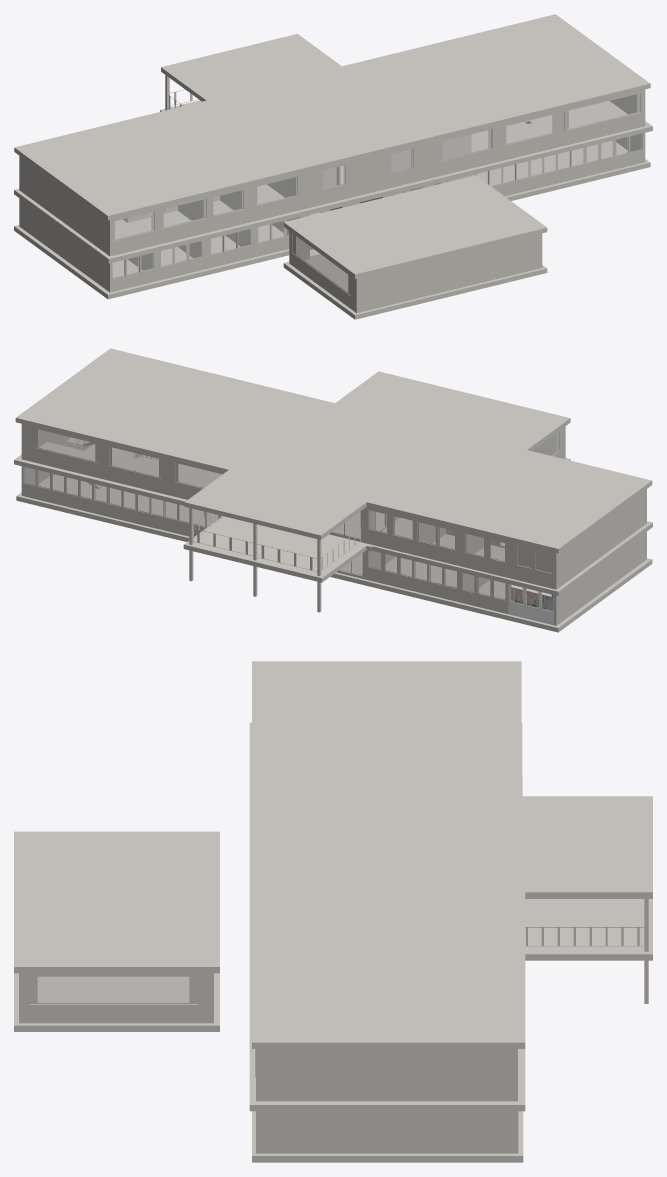
Rendered from visual_space_walk.glb.
The picture shows the model from 3 angles, top to bottom: view 1: azimuth 30°, elevation 25°; view 2: azimuth 150°, elevation 25°; view 3: azimuth 270°, elevation 25°; orthographic projection. The views are drawn at different scales.
Parts seen in each view (by area): view 1: BEYOND_L2_SLAB, BEYOND_L1_WALL, BEYOND_L0_WALL, BEYOND_L0_SLAB, BEYOND_L1_SLAB, BEYOND_L1_GLASS, BEYOND_L0_GLASS, BEYOND_L1_FRAME, UPPER_in_zone, BEYOND_L0_FRAME, BEYOND_L1_OTHER, BEYOND_L0_OTHER; view 2: BEYOND_L2_SLAB, BEYOND_L1_SLAB, BEYOND_L1_WALL, BEYOND_L0_WALL, BEYOND_L0_SLAB, BEYOND_L1_GLASS, BEYOND_L0_GLASS, UPPER_in_zone, BEYOND_L1_FRAME, BEYOND_L0_FRAME, BEYOND_L1_OTHER, BAKE_wall_north (+6 smaller); view 3: BEYOND_L2_SLAB, BEYOND_L0_WALL, BEYOND_L1_WALL, BEYOND_L1_SLAB, BEYOND_L0_SLAB, BEYOND_L0_GLASS, UPPER_in_zone, BEYOND_L0_FRAME.
Boxes of the visible parts, x1=… form: BEYOND_L2_SLAB: x1=14, y1=14, x2=650, y2=278; BEYOND_L1_WALL: x1=19, y1=89, x2=645, y2=256; BEYOND_L0_WALL: x1=19, y1=133, x2=645, y2=313; BEYOND_L0_SLAB: x1=14, y1=122, x2=650, y2=319; BEYOND_L1_SLAB: x1=14, y1=100, x2=652, y2=263; BEYOND_L1_GLASS: x1=115, y1=94, x2=636, y2=238; BEYOND_L0_GLASS: x1=113, y1=134, x2=641, y2=291; BEYOND_L1_FRAME: x1=113, y1=93, x2=640, y2=240; UPPER_in_zone: x1=22, y1=135, x2=103, y2=173; BEYOND_L0_FRAME: x1=112, y1=134, x2=642, y2=295; BEYOND_L1_OTHER: x1=112, y1=89, x2=641, y2=240; BEYOND_L0_OTHER: x1=124, y1=133, x2=642, y2=295; BEYOND_L2_SLAB: x1=15, y1=348, x2=652, y2=553; BEYOND_L1_SLAB: x1=14, y1=442, x2=652, y2=596; BEYOND_L1_WALL: x1=21, y1=424, x2=646, y2=589; BEYOND_L0_WALL: x1=21, y1=426, x2=646, y2=625; BEYOND_L0_SLAB: x1=16, y1=444, x2=652, y2=632; BEYOND_L1_GLASS: x1=38, y1=429, x2=504, y2=560; BEYOND_L0_GLASS: x1=24, y1=434, x2=555, y2=598; UPPER_in_zone: x1=508, y1=509, x2=589, y2=588; BEYOND_L1_FRAME: x1=34, y1=428, x2=505, y2=561; BEYOND_L0_FRAME: x1=23, y1=431, x2=558, y2=600; BEYOND_L1_OTHER: x1=34, y1=428, x2=505, y2=571; BAKE_wall_north: x1=508, y1=584, x2=553, y2=625; BEYOND_L2_SLAB: x1=14, y1=661, x2=652, y2=1048; BEYOND_L0_WALL: x1=19, y1=973, x2=518, y2=1153; BEYOND_L1_WALL: x1=256, y1=1049, x2=517, y2=1101; BEYOND_L1_SLAB: x1=249, y1=722, x2=652, y2=1111; BEYOND_L0_SLAB: x1=14, y1=775, x2=523, y2=1162; BEYOND_L0_GLASS: x1=38, y1=977, x2=188, y2=1002; UPPER_in_zone: x1=412, y1=665, x2=517, y2=697; BEYOND_L0_FRAME: x1=29, y1=976, x2=197, y2=1003.
Size of the model in its own units: 38.22 by 5.6 by 27.
13 materials, 8 textured.
